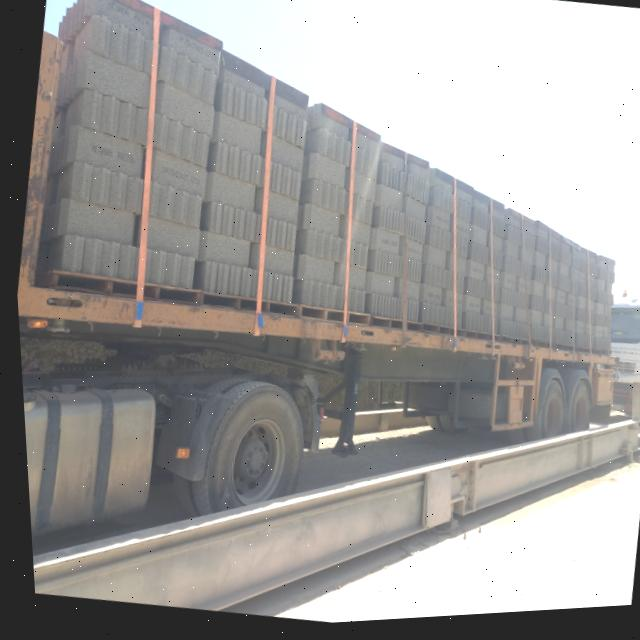bricks: (145, 12, 271, 297), (38, 0, 153, 280), (348, 125, 453, 326), (263, 80, 352, 309), (493, 201, 550, 345), (550, 231, 615, 354), (457, 181, 491, 332)
